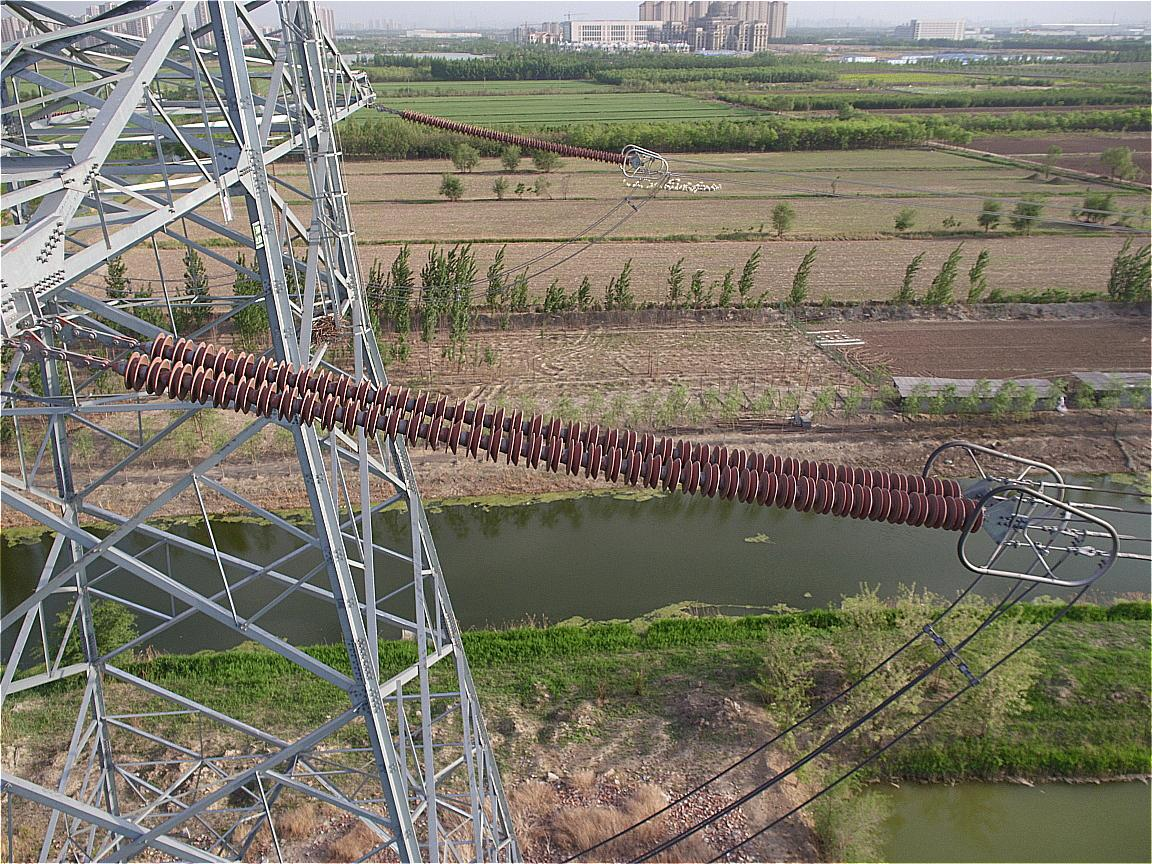insultor2: (110, 315, 974, 551)
